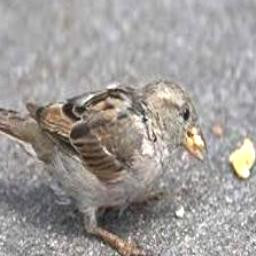Sparrow: (0, 79, 209, 256)
